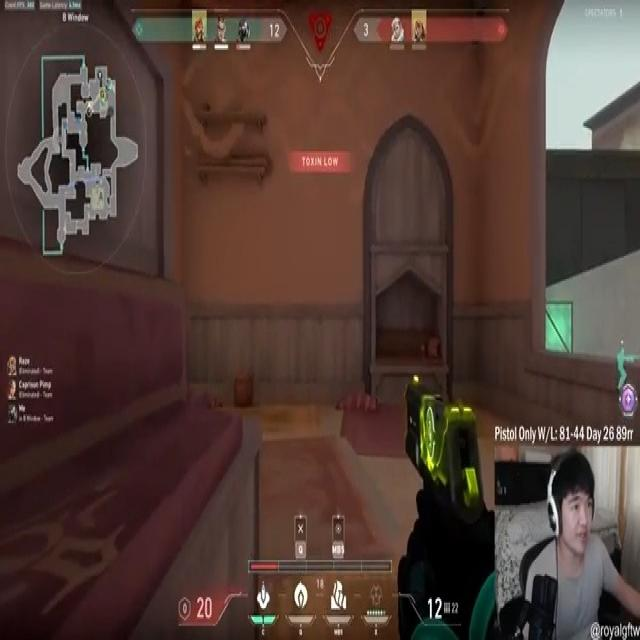ally behind wall: (614, 345, 639, 392)
